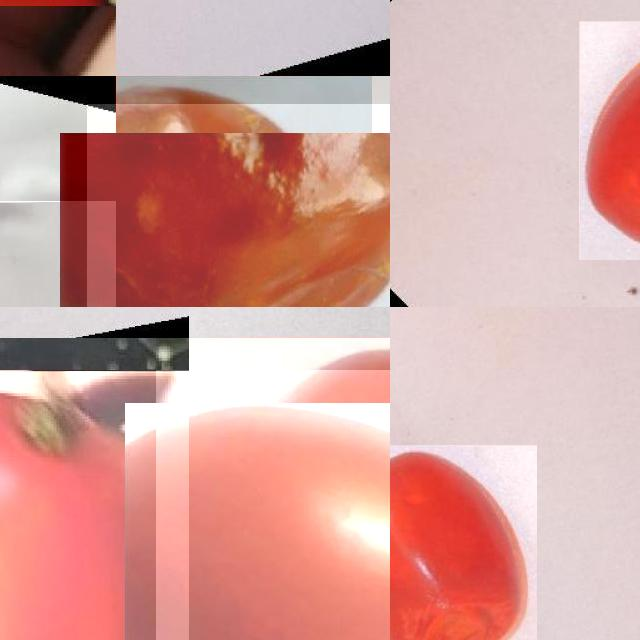1: (87, 104, 390, 307)
Fresh Tomato: (156, 370, 390, 640), (0, 371, 189, 640)
Rotten Tomato: (390, 445, 537, 640), (578, 21, 640, 260)
